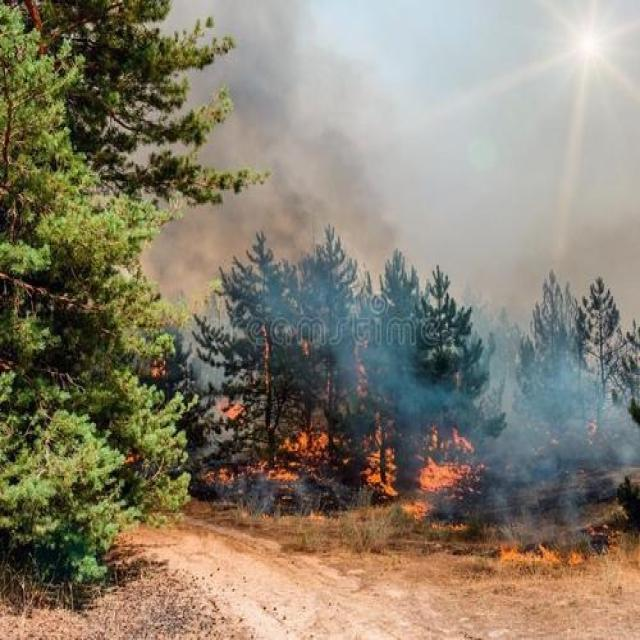Fire: (362, 416, 478, 532), (198, 430, 340, 490), (496, 540, 592, 568), (224, 403, 244, 420)
Smoke: (130, 1, 640, 334), (482, 343, 640, 512), (284, 345, 480, 429)
